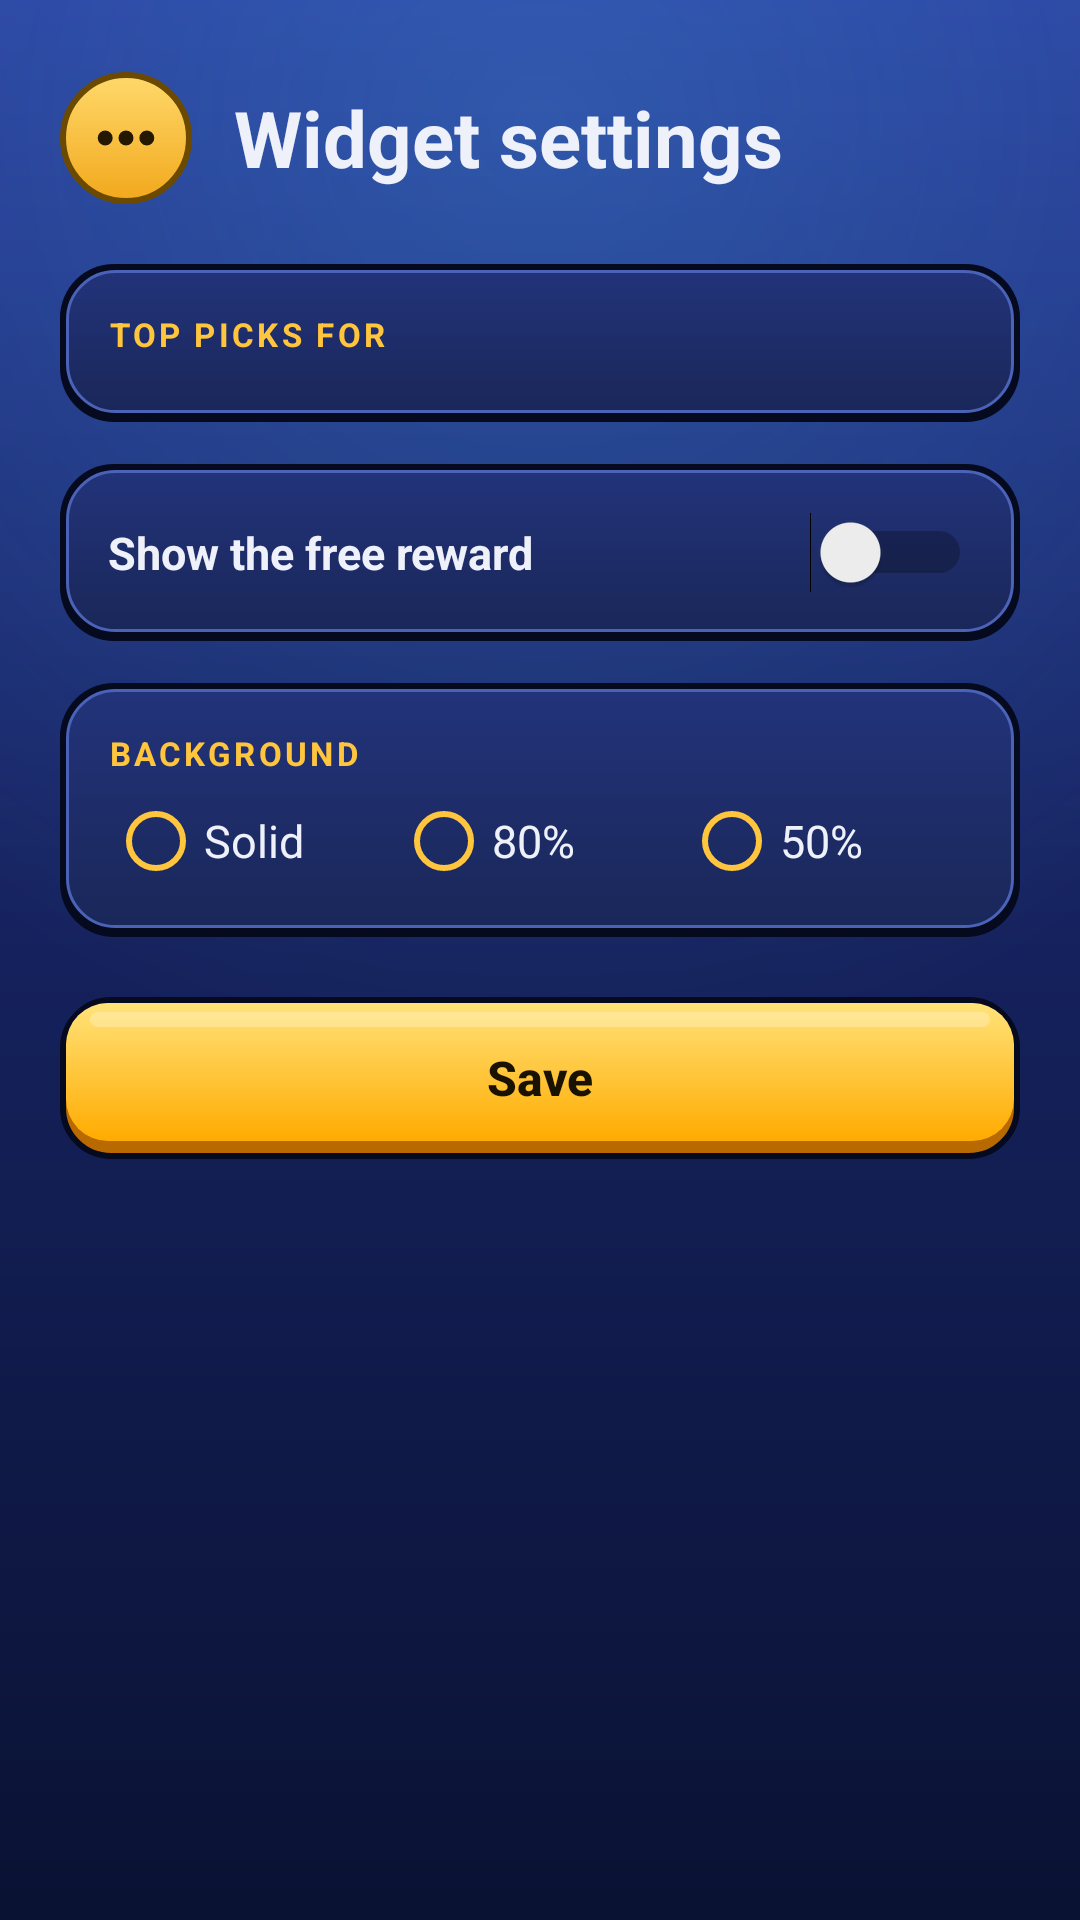

Icons on this 1080*1920 Android screen, each with the point to tap as (x,y):
bubble glyph: (126,138)
